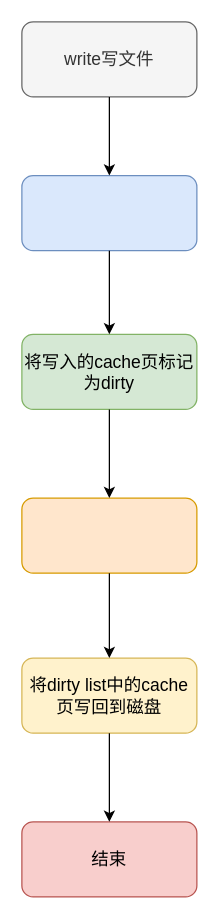
The diagram is 219 pixels wide and 919 high, and some of its shapes have lost their labels. Each missing label, with the box of its shape:
向cache中写数据: (21, 174, 197, 251)
将dirty的cache页加入到dirty list中: (21, 497, 197, 573)
